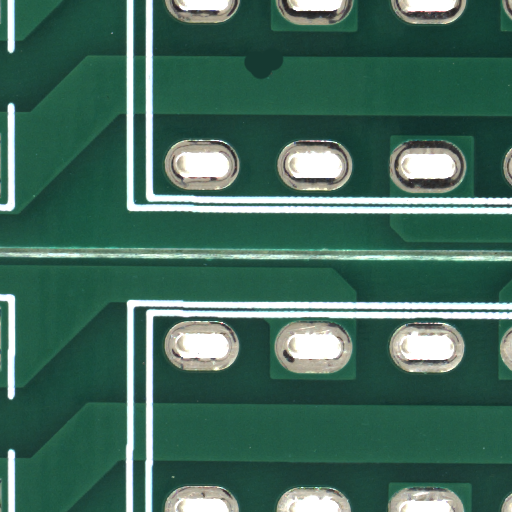Mouse_bite: (263, 66, 304, 94)
